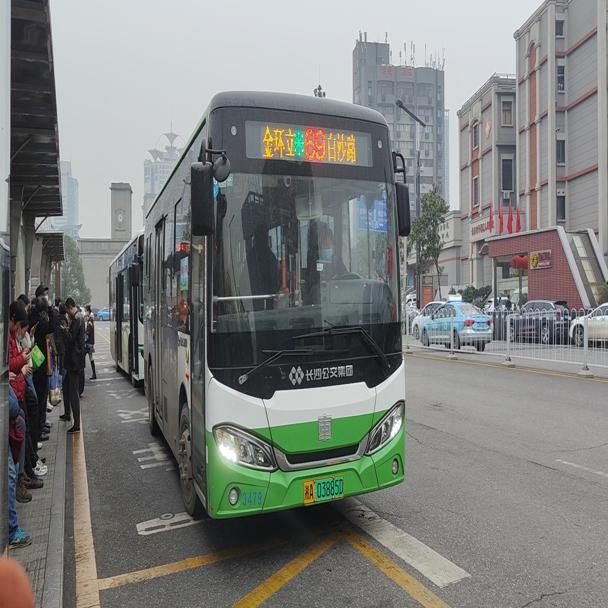bus: (143, 85, 413, 522), (106, 229, 145, 382)
screen: (303, 126, 325, 164)
